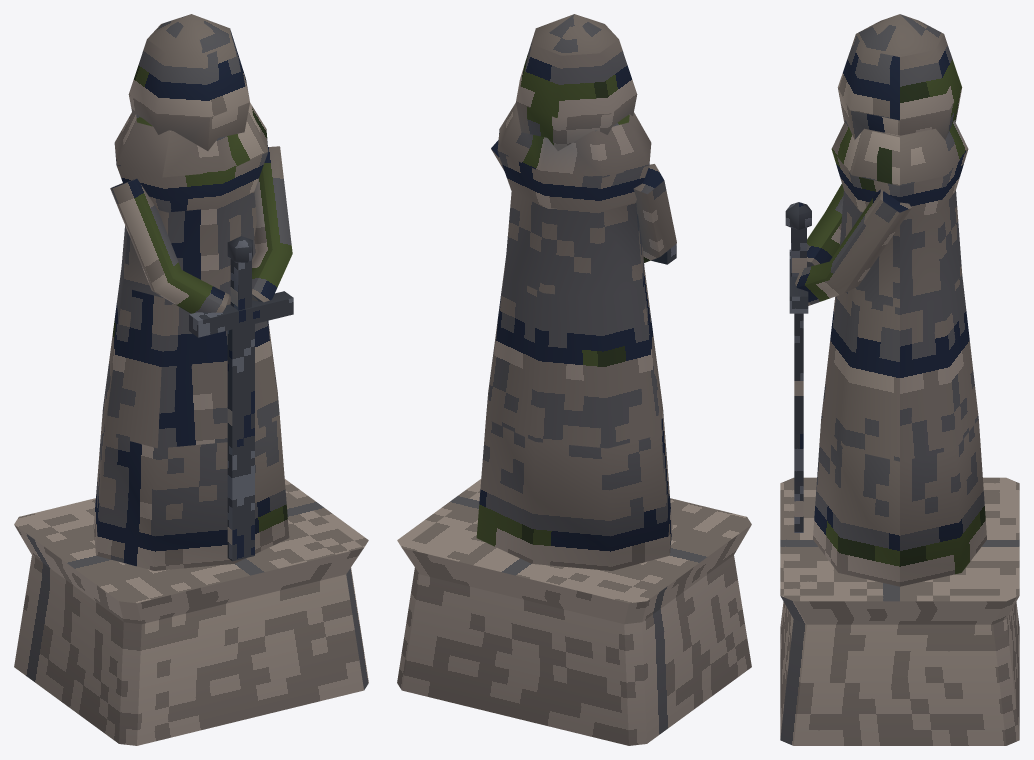
File: dprop.statue.glb
3 renders of one model, left to right at view 1: azimuth 30°, elevation 25°; view 2: azimuth 150°, elevation 25°; view 3: azimuth 270°, elevation 25°, orthographic.
Parts seen in each view (by area): view 1: kit_figure, kit_sword, kit_arms; view 2: kit_figure, kit_arms; view 3: kit_figure, kit_arms, kit_sword.
Part boxes in pixels (<box>): kit_figure: <box>14,14,368,745</box>; kit_sword: <box>189,236,293,561</box>; kit_arms: <box>110,146,292,313</box>; kit_figure: <box>397,14,751,745</box>; kit_arms: <box>491,140,676,262</box>; kit_figure: <box>780,14,1019,745</box>; kit_arms: <box>795,184,911,305</box>; kit_sword: <box>785,202,811,532</box>.
Size of the model in its own units: 1.1 by 2.78 by 0.9.
4 materials, 4 textured.
